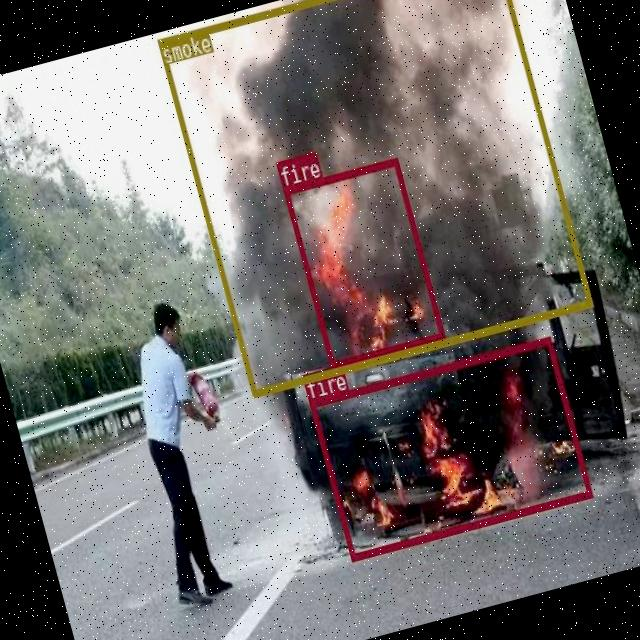fire: (308, 334, 592, 560), (282, 156, 444, 369)
smoke: (156, 0, 592, 396)
